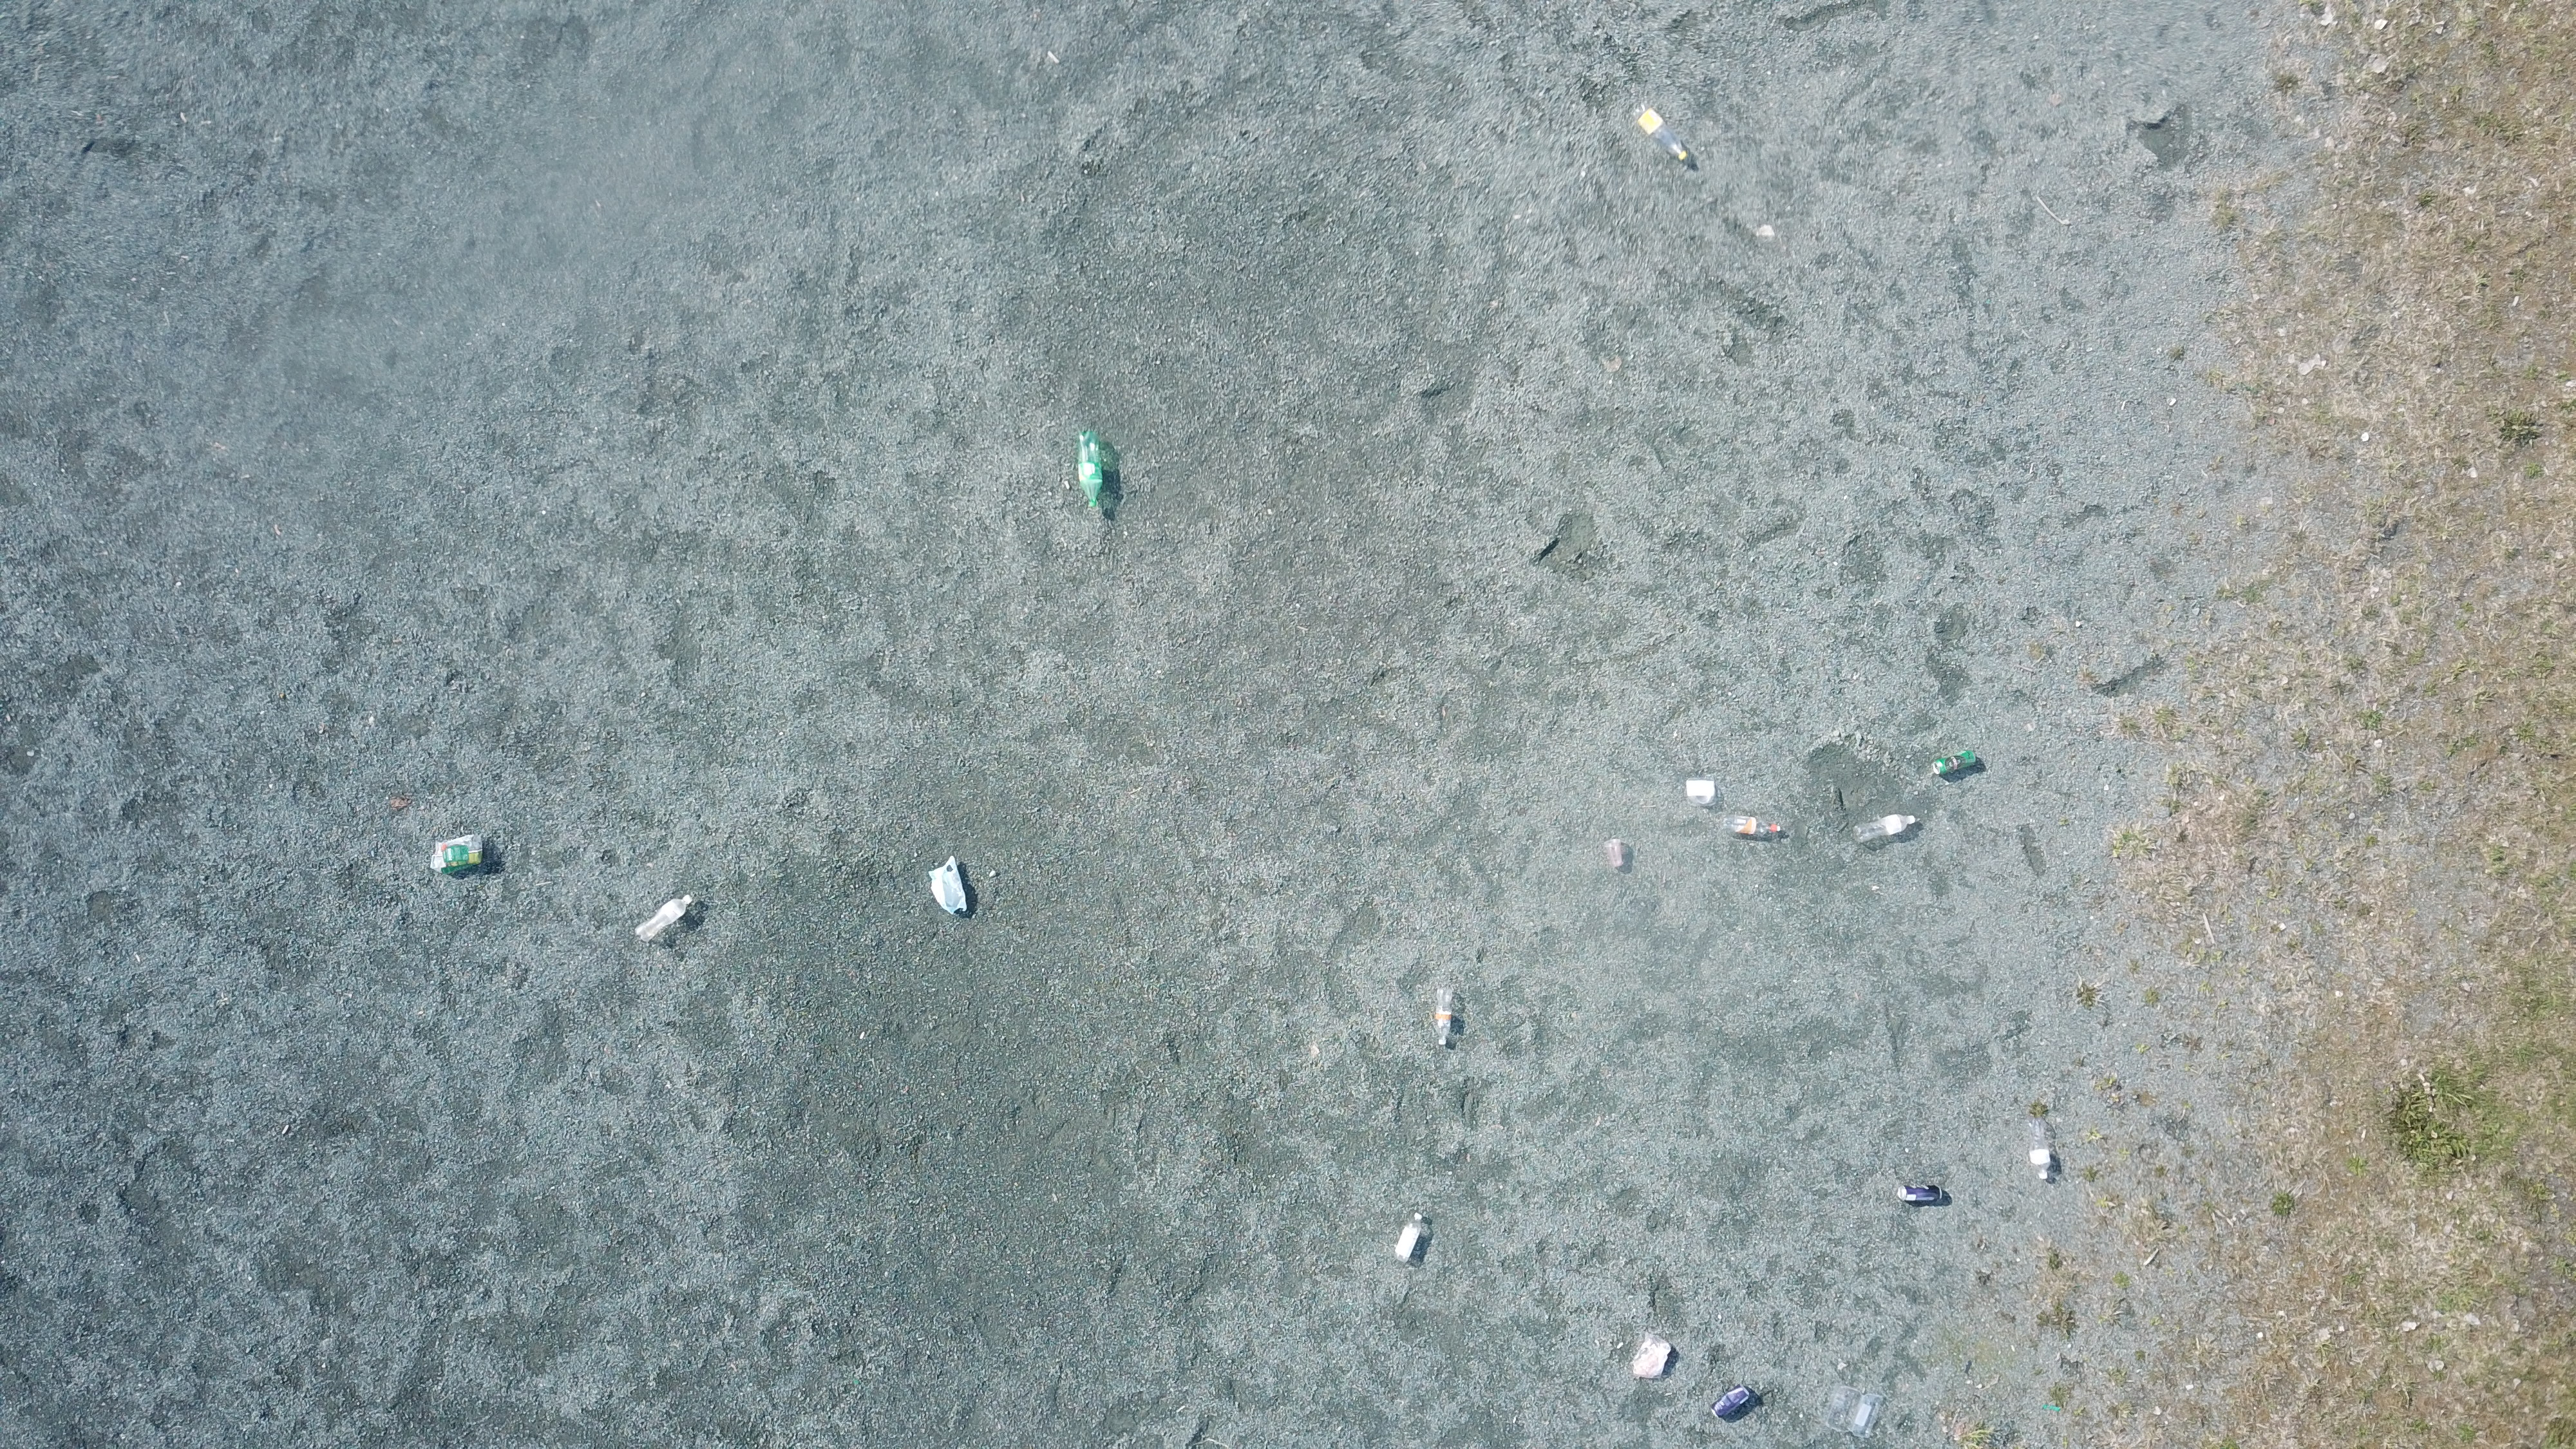Can: (1709, 1385, 1753, 1421), (1934, 748, 1978, 780), (1897, 1184, 1944, 1207)
Plastic: (1828, 1385, 1884, 1438), (931, 855, 970, 916), (430, 833, 487, 876), (1633, 1330, 1674, 1382), (1683, 775, 1723, 810), (1605, 839, 1624, 869)
PlasticBottle: (1629, 104, 1688, 161), (637, 893, 694, 945), (1076, 428, 1104, 511), (1851, 812, 1920, 846), (2022, 1115, 2056, 1182), (1720, 814, 1785, 842), (1394, 1210, 1422, 1263), (1437, 987, 1454, 1046)
